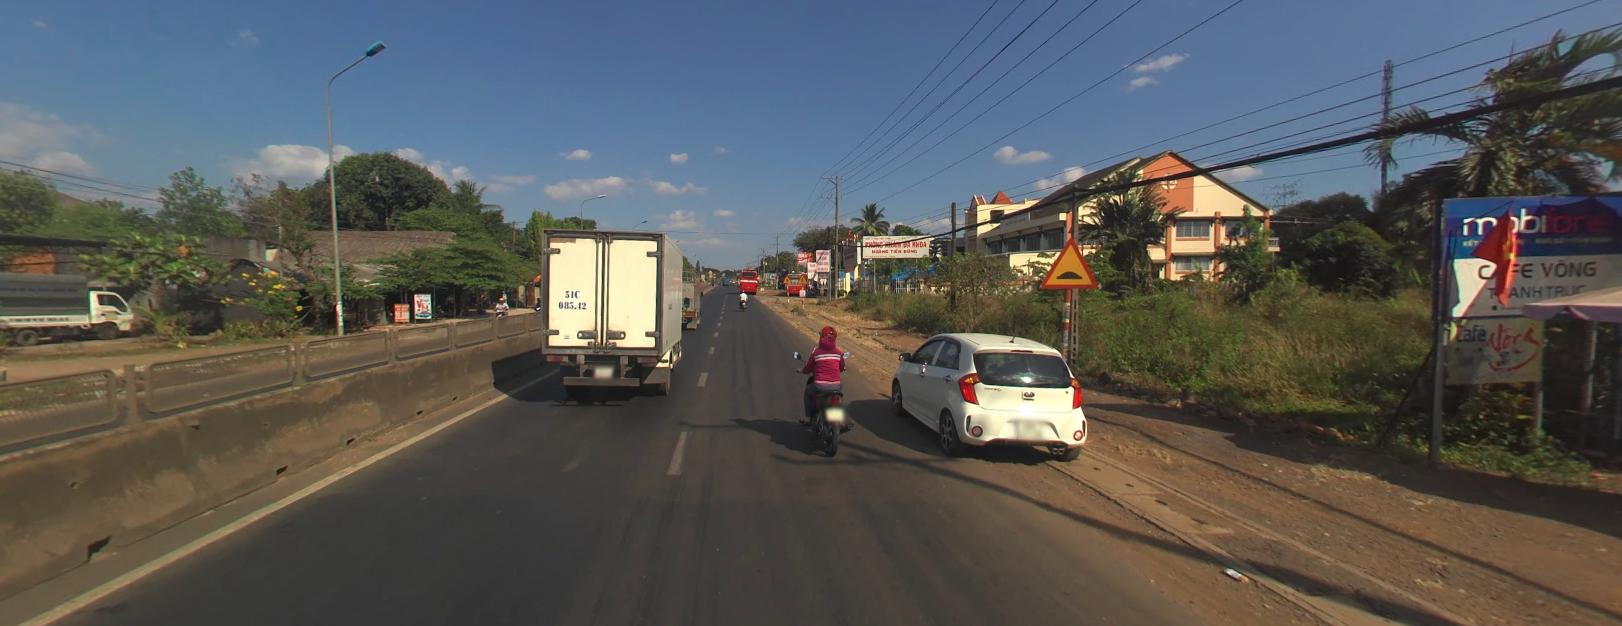Cam nguoc chieu: (712, 270, 715, 273)
Hieu lenh: (712, 274, 716, 277)
Nguy hiem: (1040, 233, 1100, 289), (795, 272, 808, 284), (782, 273, 792, 282)
